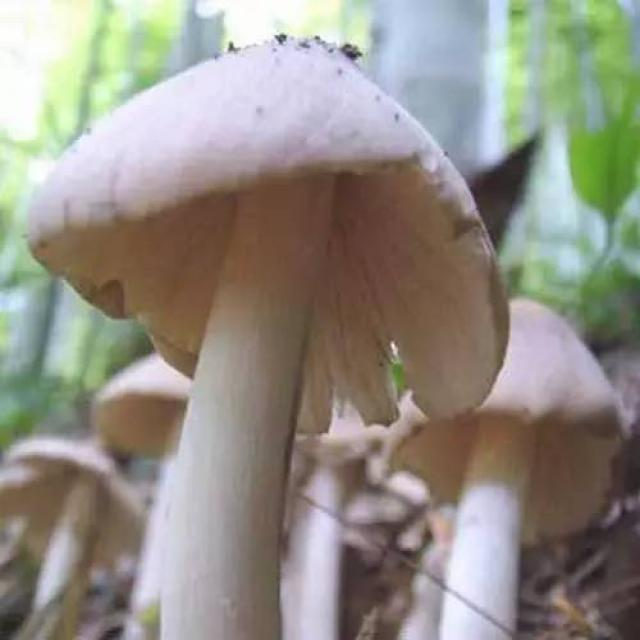Collybia albuminosa: (26, 34, 504, 640), (375, 300, 621, 633)
